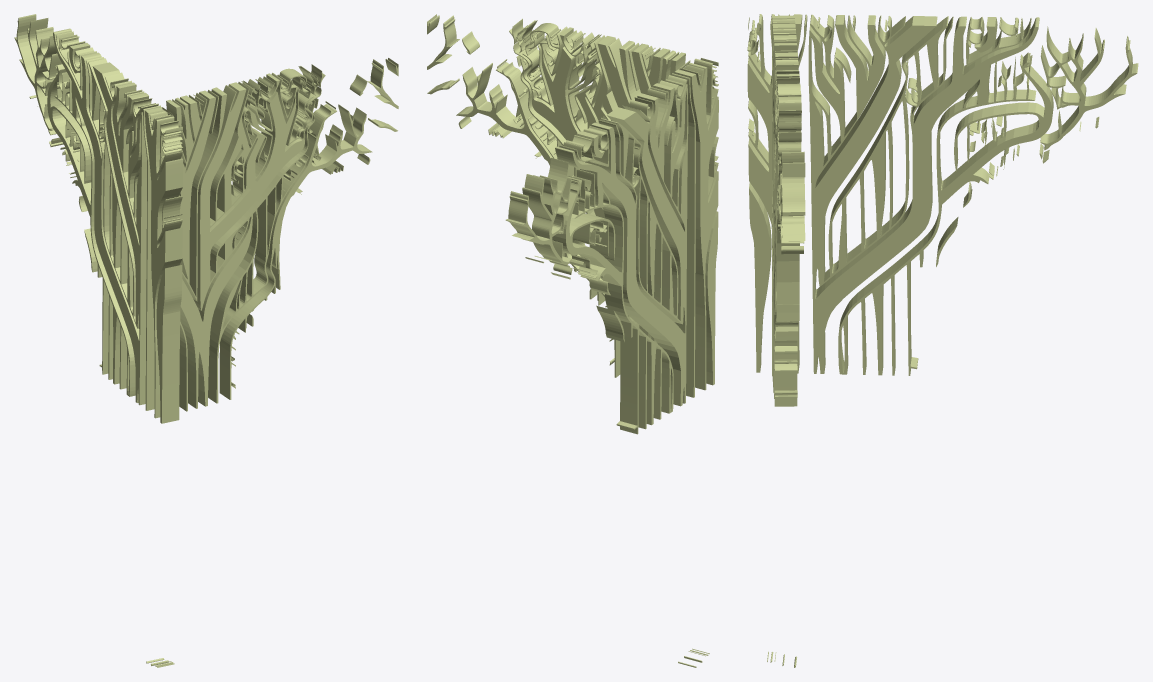
3 renders of one model, left to right at view 1: azimuth 30°, elevation 25°; view 2: azimuth 150°, elevation 25°; view 3: azimuth 270°, elevation 25°, orthographic. The views are drawn at different scales.
Visible parts, largest first — view 1: Mesh_Mesh_head_geo.001_lambert2SG.001; view 2: Mesh_Mesh_head_geo.001_lambert2SG.001; view 3: Mesh_Mesh_head_geo.001_lambert2SG.001.
Part boxes in pixels (left/top/right/bottom): Mesh_Mesh_head_geo.001_lambert2SG.001: left=14, top=14, right=398, bottom=667; Mesh_Mesh_head_geo.001_lambert2SG.001: left=427, top=14, right=718, bottom=667; Mesh_Mesh_head_geo.001_lambert2SG.001: left=747, top=14, right=1138, bottom=667.
Size of the model in its own units: 147 by 317 by 172.
